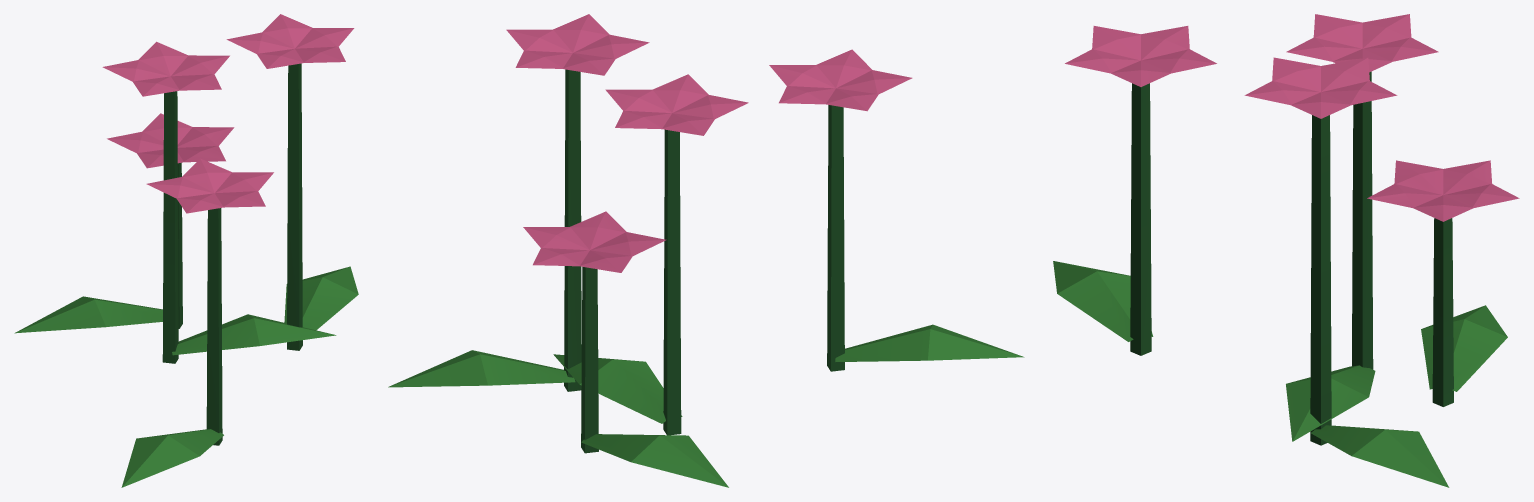
The model's file is FlowerPink.fbx.
The picture shows the model from 3 angles, left to right: view 1: azimuth 30°, elevation 25°; view 2: azimuth 150°, elevation 25°; view 3: azimuth 270°, elevation 25°; orthographic projection. The views are drawn at different scales.
Visible parts, largest first — view 1: FlowerPink; view 2: FlowerPink; view 3: FlowerPink.
Boxes of the visible parts, box(x1,y1,x2,y2) form: FlowerPink: box(14, 14, 358, 487); FlowerPink: box(388, 14, 1024, 487); FlowerPink: box(1053, 14, 1519, 487).
Bounding box in the file's own units: 0.6007 × 0.4392 × 0.5217.
